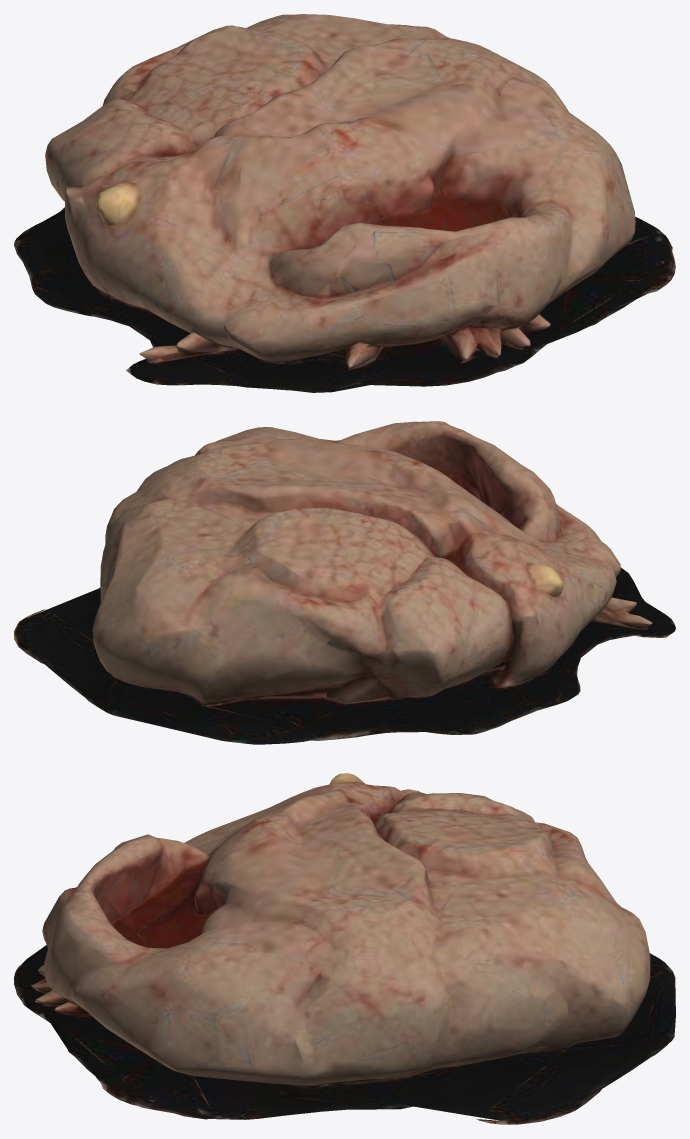
The model's file is giblet4.glb.
3 renders of one model, top to bottom at view 1: azimuth 30°, elevation 25°; view 2: azimuth 150°, elevation 25°; view 3: azimuth 270°, elevation 25°, orthographic. The views are drawn at different scales.
Visible parts, largest first — view 1: Mesh_0; view 2: Mesh_0; view 3: Mesh_0.
Part boxes in pixels (left/top/right/bottom): Mesh_0: left=14, top=14, right=675, bottom=392; Mesh_0: left=14, top=421, right=675, bottom=744; Mesh_0: left=14, top=773, right=675, bottom=1124.
Bounding box in the file's own units: 1.8 × 0.5083 × 1.9.
1 material, 1 textured.
